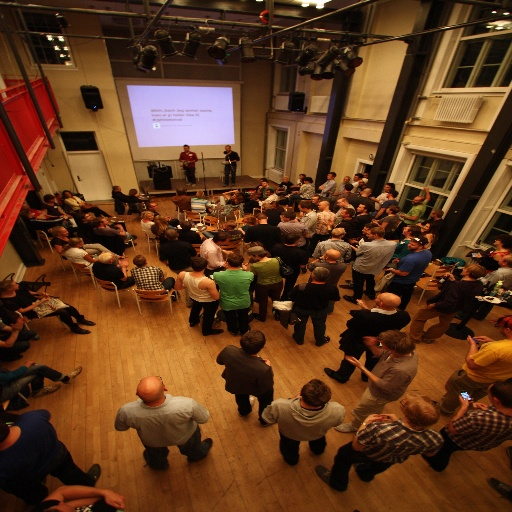hand: (101, 488, 126, 511), (342, 352, 362, 369), (379, 412, 398, 423), (465, 335, 481, 348), (458, 394, 472, 407), (472, 401, 488, 412), (475, 333, 491, 343), (365, 414, 383, 421)
